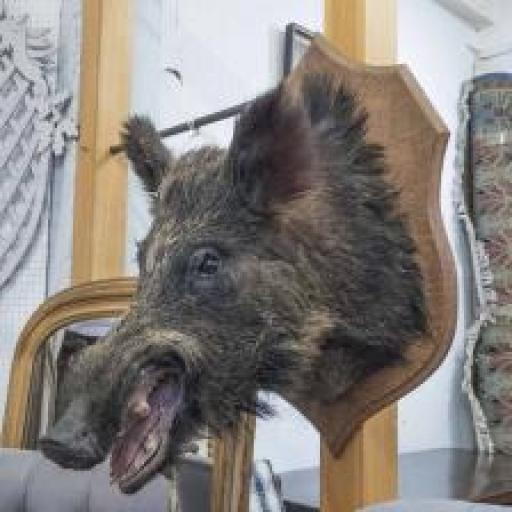Pig: (37, 66, 432, 493), (34, 64, 36, 69)
